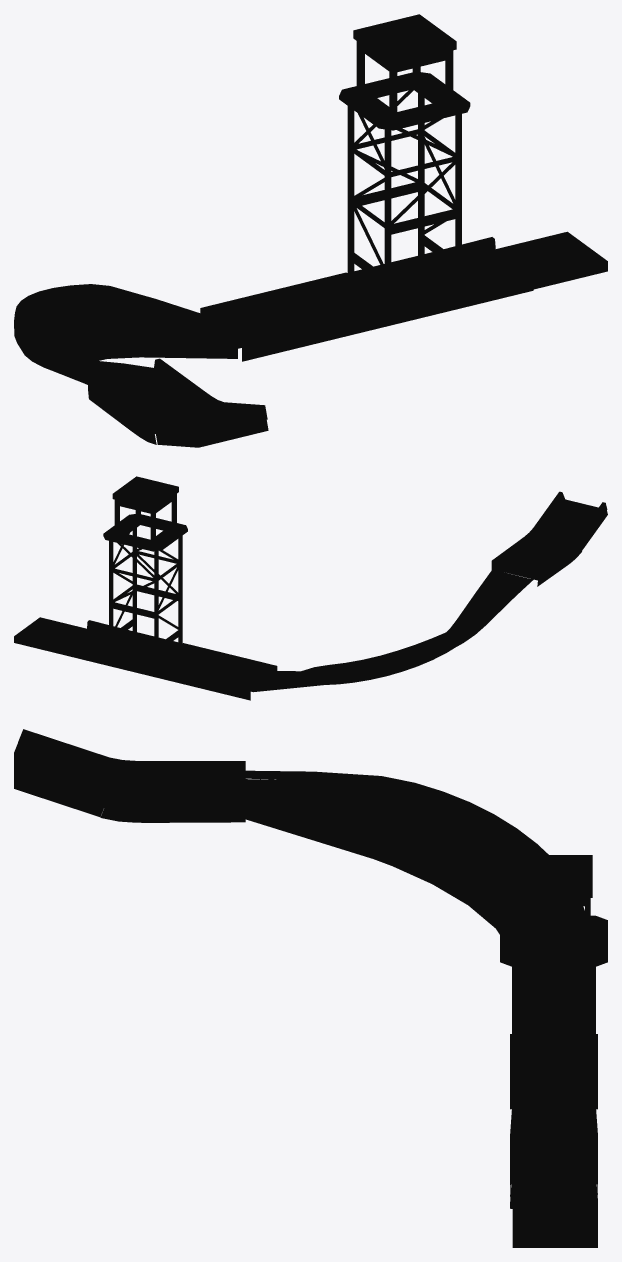
Rendered from Chunk10.obj.
3 views of the same model, one above another, from view 1: azimuth 30°, elevation 25°; view 2: azimuth 150°, elevation 25°; view 3: azimuth 270°, elevation 25° (orthographic). The views are drawn at different scales.
Bounding box in the file's own units: 831 × 327 × 626.
